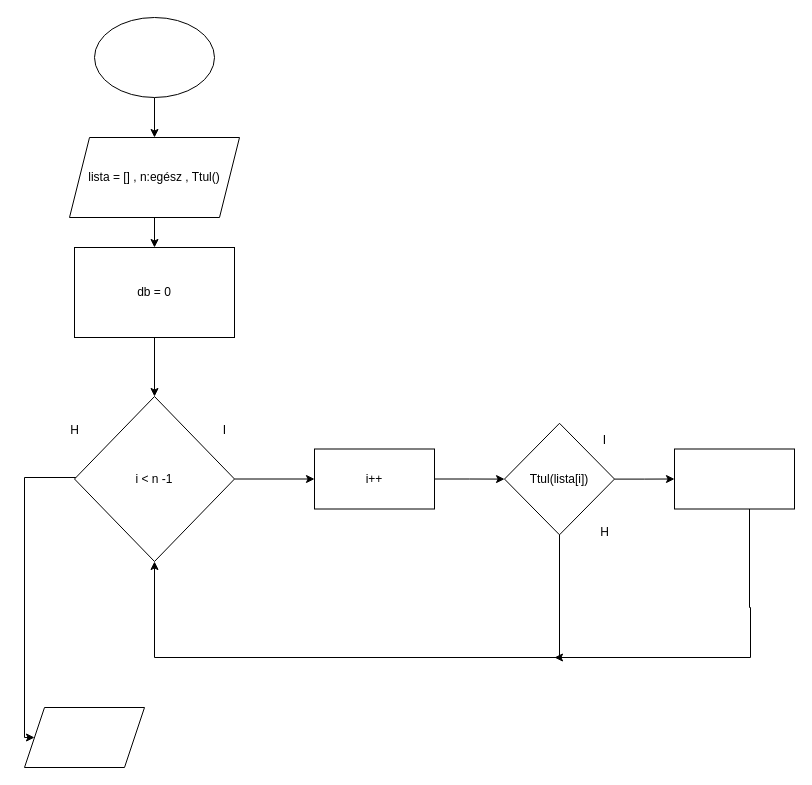
Image size: 812x785. Some labels were removed from this diagram. The shapes that lost their labels are listed below. From the top down, each one's centre as x and y in pixels, then its label:
At pixel 154 57: "start".
At pixel 734 478: "db++".
At pixel 84 737: "ki: db".
